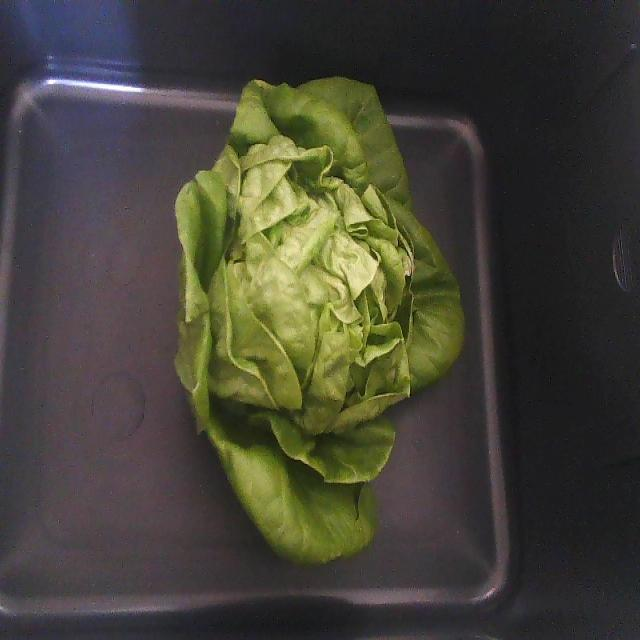Lettuce-plant: (175, 76, 463, 563)
